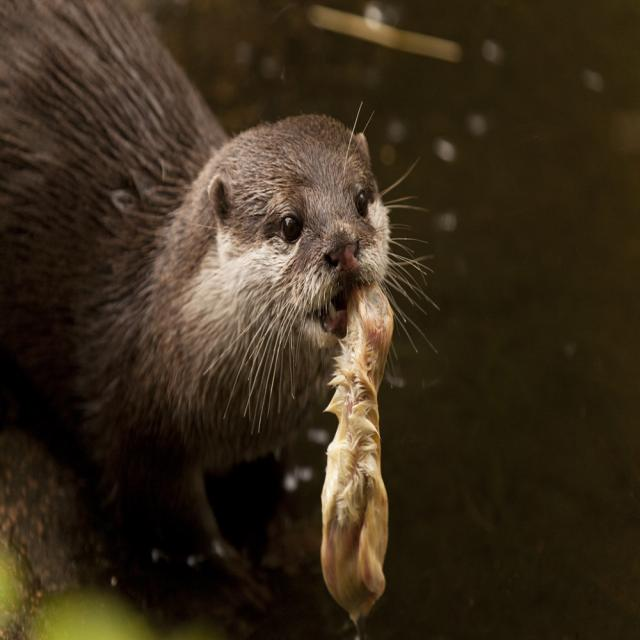otter: (124, 114, 390, 423)
